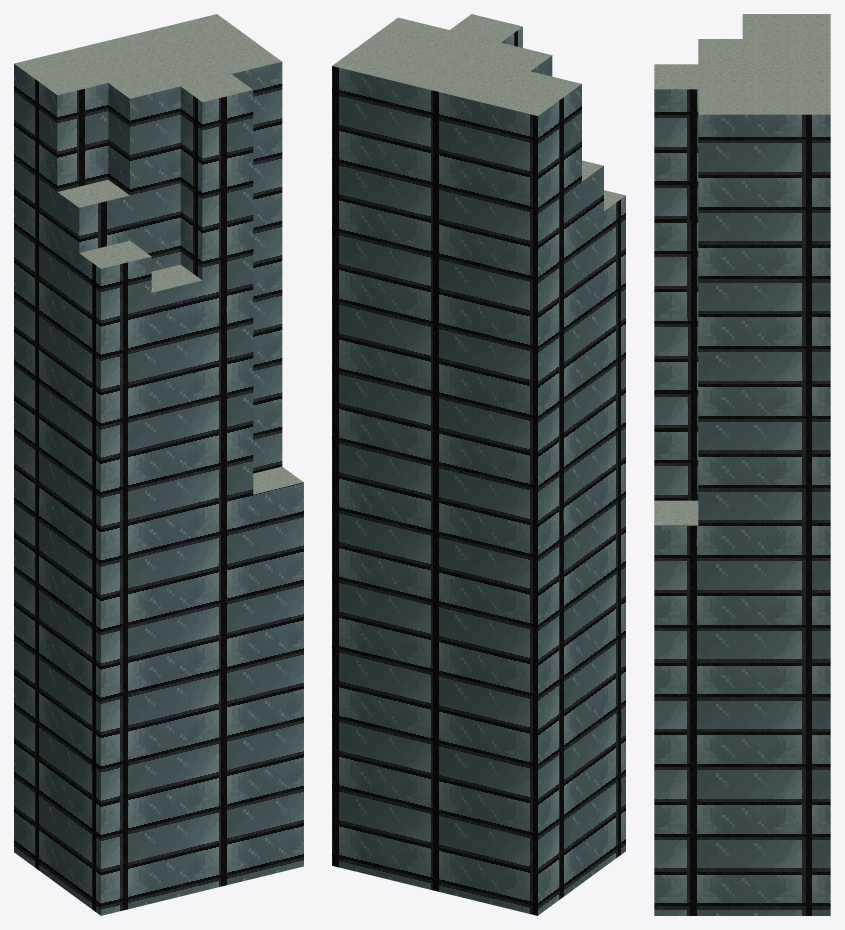
Rendered from BGN_SKYSCRAPER STYLE A.fbx.
3 views of the same model, side by side, from view 1: azimuth 30°, elevation 25°; view 2: azimuth 150°, elevation 25°; view 3: azimuth 270°, elevation 25° (orthographic).
Visible parts, largest first — view 1: BGN_BUILD_STYLE; view 2: BGN_BUILD_STYLE; view 3: BGN_BUILD_STYLE.
Part boxes in pixels (x1,y1,x2,y2): BGN_BUILD_STYLE: (14, 14, 303, 915); BGN_BUILD_STYLE: (332, 14, 625, 915); BGN_BUILD_STYLE: (654, 14, 830, 915).
Bounding box in the file's own units: 2159 × 8016 × 1600.
